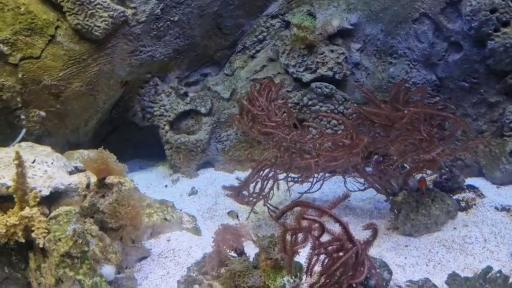Fish: (418, 176, 428, 193), (228, 210, 239, 221)
